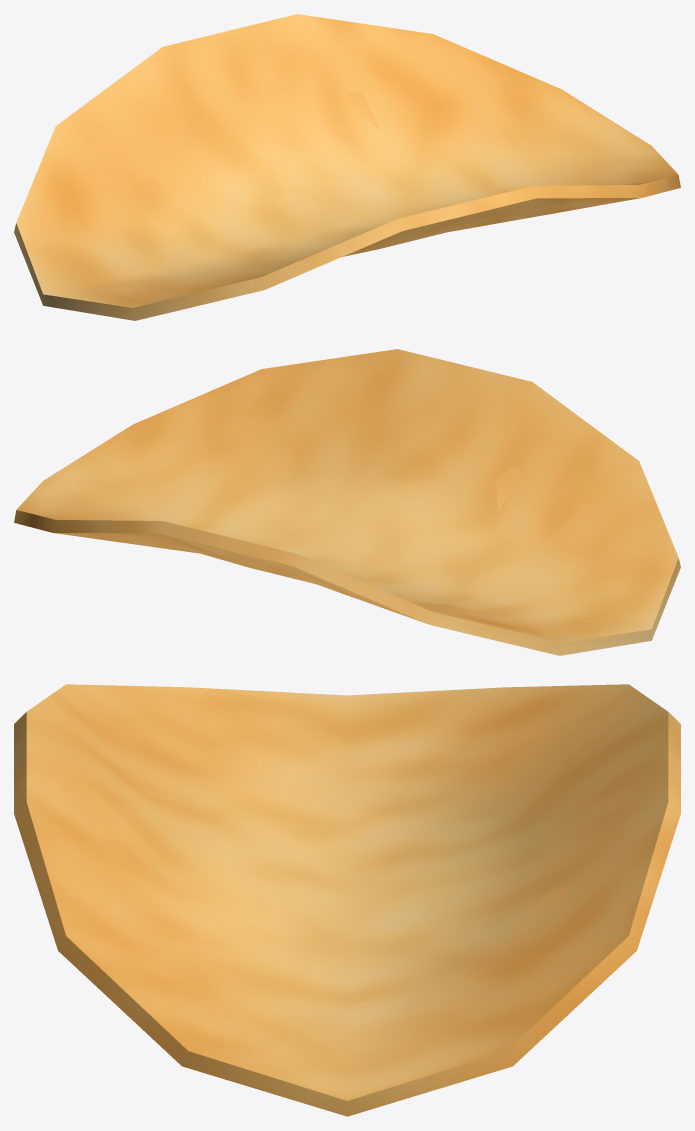
File: Chip_01.fbx
3 views of the same model, one above another, from view 1: azimuth 30°, elevation 25°; view 2: azimuth 150°, elevation 25°; view 3: azimuth 270°, elevation 25° (orthographic). The views are drawn at different scales.
Parts seen in each view (by area): view 1: Chip_01; view 2: Chip_01; view 3: Chip_01.
Boxes of the visible parts, x1,y1,x2,y2 form: Chip_01: (14,14,680,320); Chip_01: (14,349,680,655); Chip_01: (14,684,680,1116).
Bounding box in the file's own units: 43.52 × 8.39 × 30.24.
